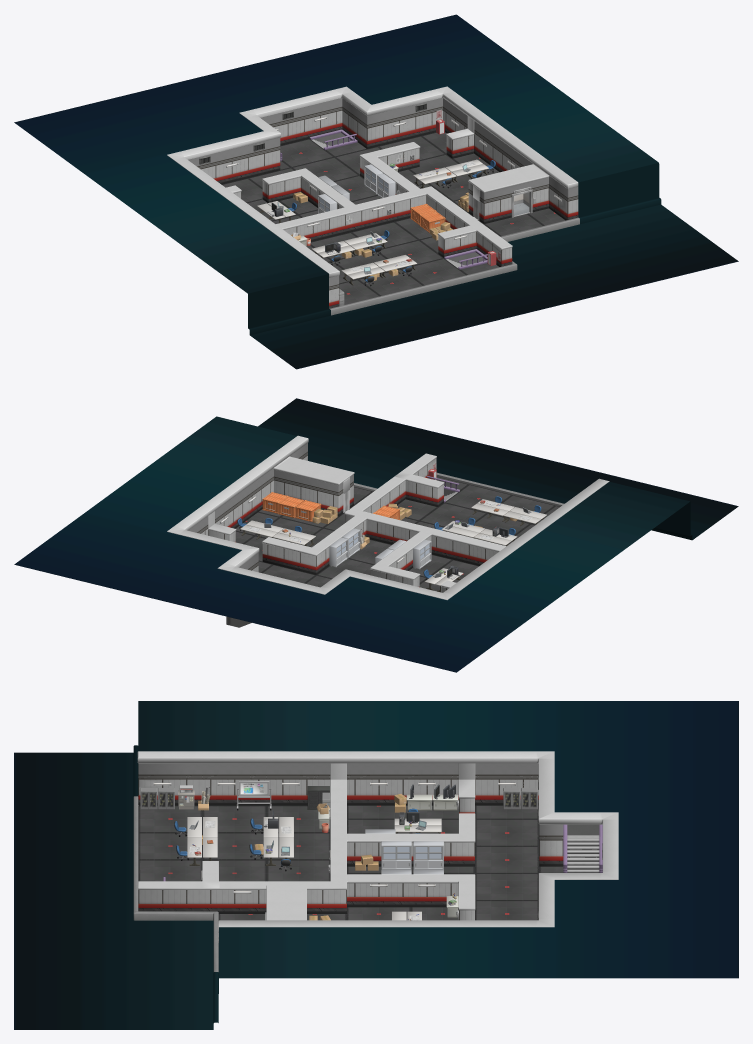
The picture shows the model from 3 angles, top to bottom: view 1: azimuth 30°, elevation 25°; view 2: azimuth 150°, elevation 25°; view 3: azimuth 270°, elevation 25°; orthographic projection. The views are drawn at different scales.
Parts seen in each view (by area): view 1: combg01_01, c1f00b8baad4a93c907061662-UV1, a9d122c425324937900d6c0a8, ef998f2e0000552dd21b401c6, c2627680b33e6a577179da78, a8357785bcb5f6ef8a800ae6d, edec2676bfa3692da882af5b9d, c1a5293815c545d086283b1d, d0489cbba4bf24311ca6ce723; view 2: combg01_01, a9d122c425324937900d6c0a8, c1f00b8baad4a93c907061662-UV1, ef998f2e0000552dd21b401c6, c2627680b33e6a577179da78, a8357785bcb5f6ef8a800ae6d, c1a5293815c545d086283b1d, edec2676bfa3692da882af5b9d; view 3: combg01_01, a9d122c425324937900d6c0a8, ef998f2e0000552dd21b401c6, c1f00b8baad4a93c907061662-UV1, c2627680b33e6a577179da78, a8357785bcb5f6ef8a800ae6d, stairs_01_02_001, bfcfebe82aa1b378efb, f4577026240eeb5fea6ffce688, a8092b990fb1f520d25c9145, edec2676bfa3692da882af5b9d, c779dbcb2c9059dd79 (+3 smaller).
Part boxes in pixels (<box>): combg01_01: <box>14,14,738,369</box>; c1f00b8baad4a93c907061662-UV1: <box>188,98,578,308</box>; a9d122c425324937900d6c0a8: <box>167,86,579,315</box>; ef998f2e0000552dd21b401c6: <box>222,132,565,304</box>; c2627680b33e6a577179da78: <box>257,159,488,285</box>; a8357785bcb5f6ef8a800ae6d: <box>318,164,395,213</box>; edec2676bfa3692da882af5b9d: <box>293,192,468,280</box>; c1a5293815c545d086283b1d: <box>410,203,445,232</box>; d0489cbba4bf24311ca6ce723: <box>288,160,495,286</box>; combg01_01: <box>14,398,738,672</box>; a9d122c425324937900d6c0a8: <box>167,435,609,600</box>; c1f00b8baad4a93c907061662-UV1: <box>188,443,498,592</box>; ef998f2e0000552dd21b401c6: <box>235,476,560,591</box>; c2627680b33e6a577179da78: <box>240,499,546,592</box>; a8357785bcb5f6ef8a800ae6d: <box>329,528,431,569</box>; c1a5293815c545d086283b1d: <box>262,492,399,521</box>; edec2676bfa3692da882af5b9d: <box>312,503,517,543</box>; combg01_01: <box>14,701,738,1029</box>; a9d122c425324937900d6c0a8: <box>133,751,618,971</box>; ef998f2e0000552dd21b401c6: <box>138,805,563,920</box>; c1f00b8baad4a93c907061662-UV1: <box>138,763,563,942</box>; c2627680b33e6a577179da78: <box>187,817,441,920</box>; a8357785bcb5f6ef8a800ae6d: <box>365,829,443,874</box>; stairs_01_02_001: <box>567,835,599,872</box>; bfcfebe82aa1b378efb: <box>318,794,458,917</box>; f4577026240eeb5fea6ffce688: <box>140,788,537,809</box>; a8092b990fb1f520d25c9145: <box>142,792,536,807</box>; edec2676bfa3692da882af5b9d: <box>202,794,406,920</box>; c779dbcb2c9059dd79: <box>263,784,455,828</box>.
Bounding box in the file's own units: 4092 × 543 × 4522.
42 materials, 41 textured.
